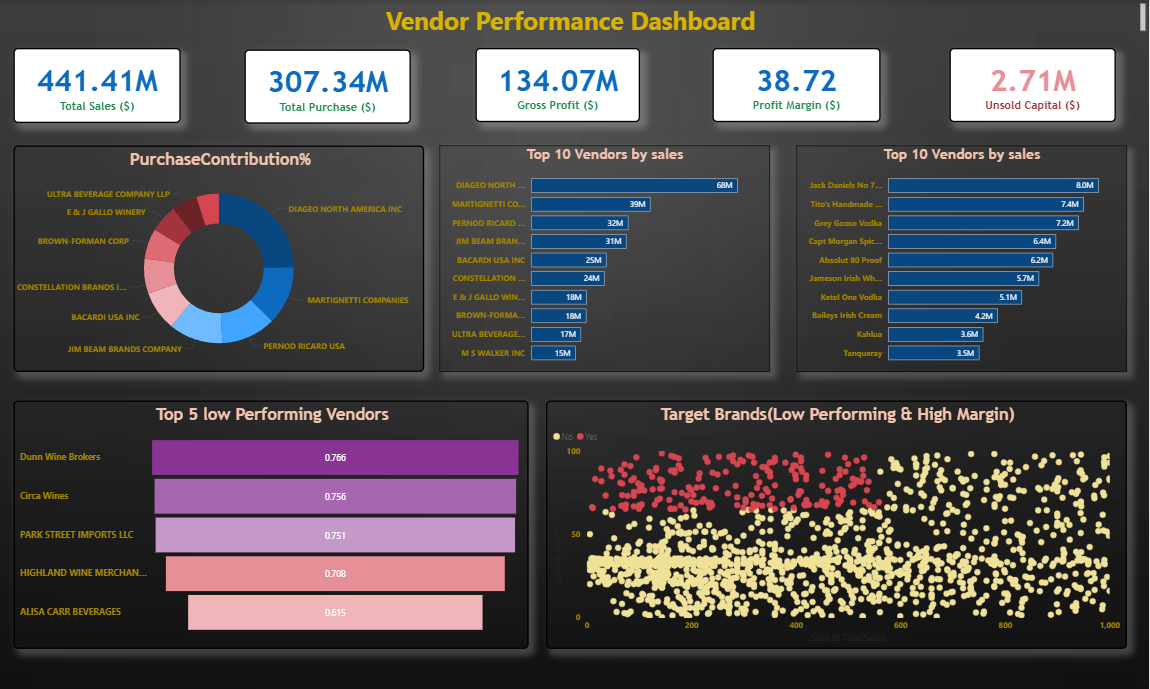

This screenshot's page, from the dashboard's own definition file:
{"tool":"powerbi","page":{"name":"Page 1","canvas":[1750,1050],"ordinal":0},"visuals":[{"type":"textbox","box":[0,0,1750,55],"z":1},{"type":"card","fields":{"Values":["Sum(vendor_sales_filtered.TotalSalesDollars)"]},"box":[26,72,254,114],"z":2},{"type":"card","fields":{"Values":["Sum(vendor_sales_filtered.TotalPurchaseDollars)"]},"box":[375,75,252.5,112.5],"z":3},{"type":"card","fields":{"Values":["Sum(vendor_sales_filtered.GrossProfit)"]},"box":[727.5,72.5,250,112.5],"z":4},{"type":"card","fields":{"Values":["Avg(vendor_sales_filtered.ProfitMargin)"]},"box":[1087.5,72.5,255,112.5],"z":5},{"type":"card","fields":{"Values":["Sum(vendor_sales_filtered.UnsoldCapital)"]},"box":[1447.5,72.5,252.5,112.5],"z":6},{"type":"donutChart","title":"PurchaseContribution% ","fields":{"Category":["PurchaseContribution.VendorName"],"Y":["Sum(PurchaseContribution.PurchaseContribution%)"]},"box":[26,220,624,344],"z":7},{"type":"clusteredBarChart","title":"Top 10 Vendors by sales","fields":{"Category":["vendor_sales_filtered.VendorName"],"Y":["Sum(vendor_sales_filtered.TotalSalesDollars)"]},"box":[672,220,502,344],"z":8},{"type":"clusteredBarChart","title":"Top 10 Vendors by sales","fields":{"Category":["vendor_sales_filtered.Description"],"Y":["Sum(vendor_sales_filtered.TotalSalesDollars)"]},"box":[1214,220,502,344],"z":9},{"type":"funnel","title":"Top 5 low Performing Vendors","fields":{"Category":["LowPerformingVendor.VendorName"],"Y":["Avg(LowPerformingVendor.AvgStockTurnover)"]},"box":[25,607.5,782.5,377.5],"z":10},{"type":"scatterChart","title":"Target Brands(Low Performing & High Margin)","fields":{"Category":["LowPerformingBrands.Description"],"X":["Sum(LowPerformingBrands.TotalSales)"],"Y":["Sum(LowPerformingBrands.AvgProfitMargin)"],"Series":["LowPerformingBrands.TargetBrand"]},"box":[835,607.5,882.5,377.5],"z":11}]}

Visuals, with their boxes in screenshot pixels (x1, y1, x2, y2), scaled from the page's 1750x1050 canvas onto the 1150x689 screenshot:
textbox: select_region(0, 0, 1149, 36)
card - Sum(vendor_sales_filtered.TotalSalesDollars): select_region(17, 47, 184, 122)
card - Sum(vendor_sales_filtered.TotalPurchaseDollars): select_region(246, 49, 412, 123)
card - Sum(vendor_sales_filtered.GrossProfit): select_region(478, 48, 642, 121)
card - Avg(vendor_sales_filtered.ProfitMargin): select_region(715, 48, 882, 121)
card - Sum(vendor_sales_filtered.UnsoldCapital): select_region(951, 48, 1117, 121)
"PurchaseContribution% " donutChart: select_region(17, 144, 427, 370)
"Top 10 Vendors by sales" clusteredBarChart: select_region(442, 144, 771, 370)
"Top 10 Vendors by sales" clusteredBarChart: select_region(798, 144, 1128, 370)
"Top 5 low Performing Vendors" funnel: select_region(16, 399, 531, 646)
"Target Brands(Low Performing & High Margin)" scatterChart: select_region(549, 399, 1129, 646)
